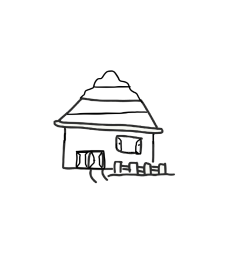door: (73, 143, 111, 172)
open_window: (110, 133, 143, 156)
roof: (47, 61, 168, 135)
small_house: (2, 2, 234, 260)
wall: (60, 120, 157, 175)
